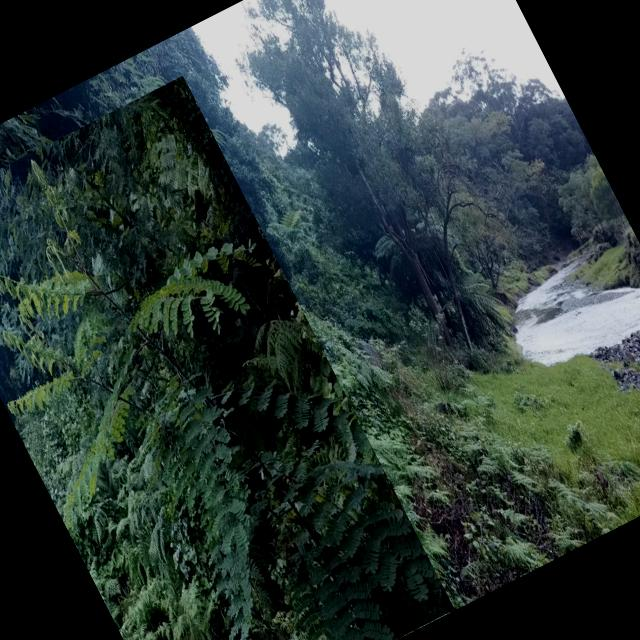Mysore-Thorn-Weed: (0, 75, 455, 640)
